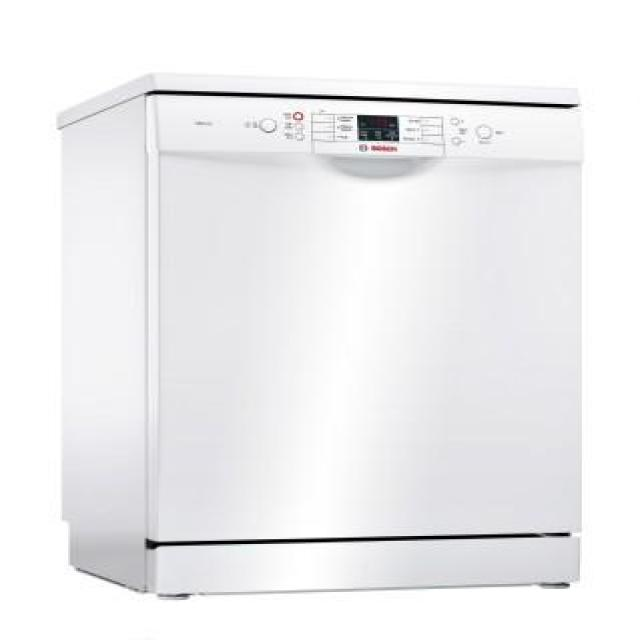dishwasher: (46, 64, 588, 594)
